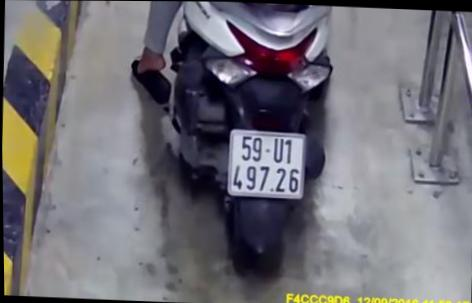LP: (225, 125, 308, 200)
